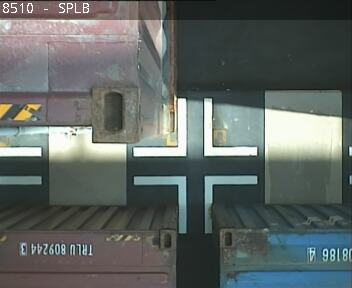groundmarker_1: (132, 174, 257, 233), (132, 99, 257, 157)
